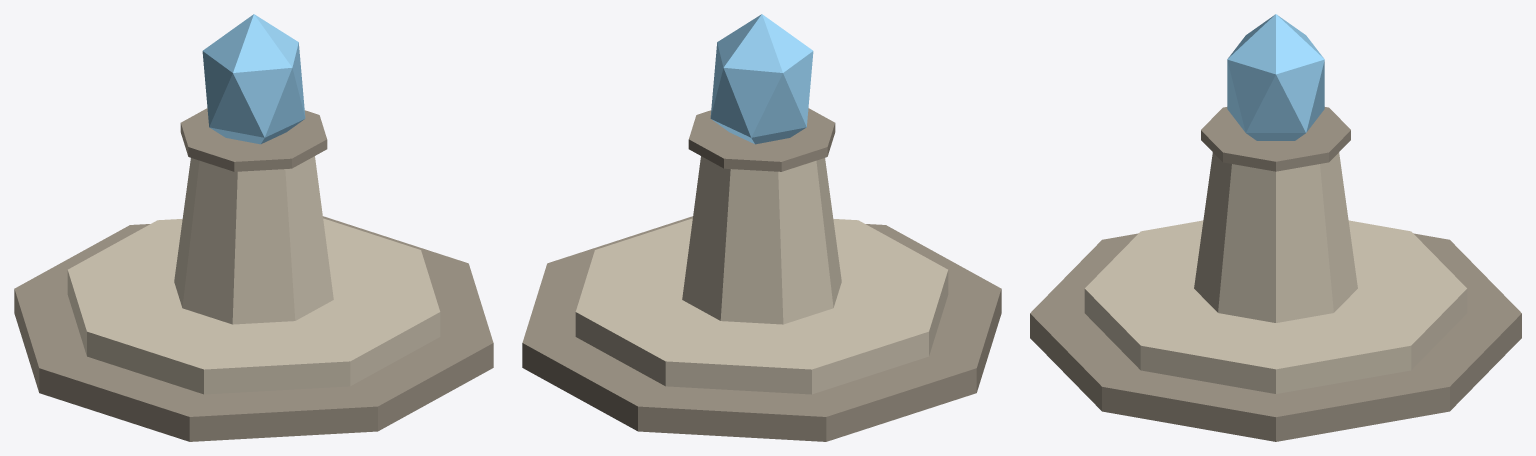
File: Finale_Plinth.fbx
3 views of the same model, side by side, from view 1: azimuth 30°, elevation 25°; view 2: azimuth 150°, elevation 25°; view 3: azimuth 270°, elevation 25° (orthographic).
Visible parts, largest first — view 1: Finale_Plinth; view 2: Finale_Plinth; view 3: Finale_Plinth.
Part boxes in pixels (box(x1,y1,x2,y2)): Finale_Plinth: box(14, 14, 493, 441); Finale_Plinth: box(522, 14, 1001, 441); Finale_Plinth: box(1030, 14, 1521, 441).
Bounding box in the file's own units: 3.6 × 2.62 × 3.6.
